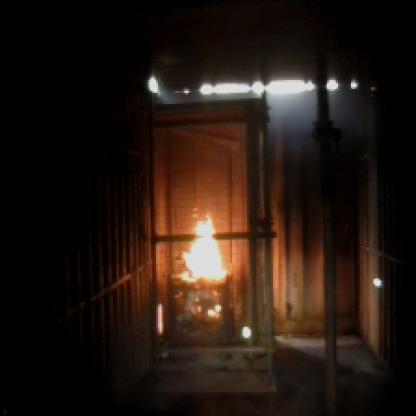Fire: (160, 186, 249, 338)
